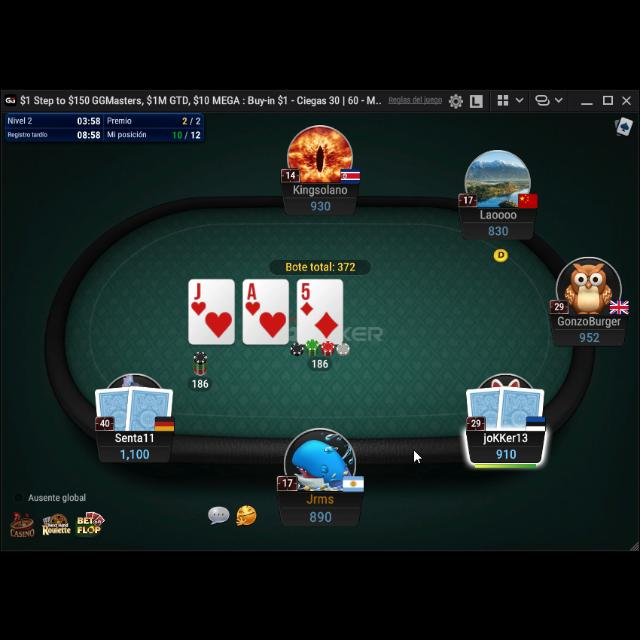5d: (299, 280, 315, 316)
Ah: (245, 280, 261, 316)
Jh: (190, 280, 207, 316)
bet_text: (190, 376, 210, 388), (310, 358, 332, 368)
card_back: (495, 382, 547, 432), (124, 381, 174, 431), (464, 382, 506, 430), (94, 384, 136, 431)
dealer: (492, 245, 510, 261)
pot_text: (285, 260, 357, 270)
stack_text: (118, 445, 152, 459), (308, 507, 334, 523), (495, 445, 519, 459), (486, 221, 509, 235), (578, 328, 600, 342), (310, 196, 332, 210)
